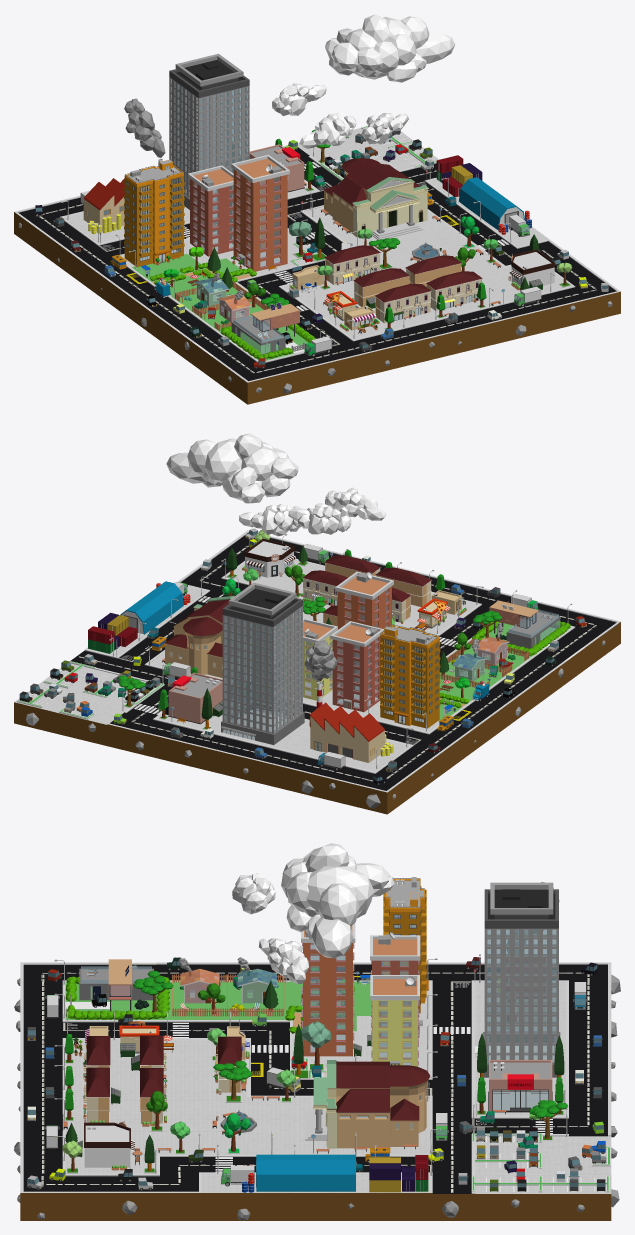
Rendered from low_poly_city.fbx.
3 renders of one model, top to bottom at view 1: azimuth 30°, elevation 25°; view 2: azimuth 150°, elevation 25°; view 3: azimuth 270°, elevation 25°, orthographic. The views are drawn at different scales.
Parts seen in each view (by area): view 1: Icosphere_Colore_0, Ufficio_Colore_0, Struttura_Colore_0, Condominio.001_Colore_0, Floor.001_Colore_0, Condominio.002_Colore_0, Ufficio_Vetro_0, Cube_Colore_0, Storage_Colore_0, Villa_Colore_0, Factory_Colore_0, Plane.089_Marcapiede_0 (+39 smaller); view 2: Icosphere_Colore_0, Ufficio_Colore_0, Floor.001_Colore_0, Ufficio_Vetro_0, Factory_Colore_0, Condominio.002_Colore_0, Plane.069_Colore_0, Cube_Colore_0, SuperMarket_Colore_0, Condominio.001_Colore_0, Villa_Colore_0, Storage_Colore_0 (+36 smaller); view 3: Icosphere_Colore_0, Ufficio_Colore_0, Struttura_Colore_0, Condominio.001_Colore_0, Storage_Colore_0, Plane.069_Colore_0, Ufficio_Vetro_0, Cube_Colore_0, Condominio_Colore_0, Plane.089_Marcapiede_0, Villa_Colore_0, SuperMarket_Colore_0 (+106 smaller).
Boxes of the visible parts, <box> form: Icosphere_Colore_0: <box>272,14,455,148</box>; Ufficio_Colore_0: <box>169,77,249,202</box>; Struttura_Colore_0: <box>332,162,428,237</box>; Condominio.001_Colore_0: <box>233,169,287,271</box>; Floor.001_Colore_0: <box>124,175,184,256</box>; Condominio.002_Colore_0: <box>190,179,233,256</box>; Ufficio_Vetro_0: <box>171,79,247,196</box>; Cube_Colore_0: <box>169,53,249,97</box>; Storage_Colore_0: <box>459,177,524,230</box>; Villa_Colore_0: <box>231,303,299,354</box>; Factory_Colore_0: <box>83,178,148,230</box>; Plane.089_Marcapiede_0: <box>304,206,453,249</box>; Icosphere_Colore_0: <box>166,433,386,536</box>; Ufficio_Colore_0: <box>222,606,302,733</box>; Floor.001_Colore_0: <box>380,637,440,718</box>; Ufficio_Vetro_0: <box>224,608,301,732</box>; Factory_Colore_0: <box>309,702,384,762</box>; Condominio.002_Colore_0: <box>332,636,380,712</box>; Plane.069_Colore_0: <box>14,702,139,753</box>; Cube_Colore_0: <box>222,582,302,626</box>; SuperMarket_Colore_0: <box>168,672,222,724</box>; Condominio.001_Colore_0: <box>337,586,391,683</box>; Villa_Colore_0: <box>489,600,560,648</box>; Storage_Colore_0: <box>120,581,183,634</box>; Icosphere_Colore_0: <box>232,843,394,984</box>; Ufficio_Colore_0: <box>484,928,558,1063</box>; Struttura_Colore_0: <box>313,1060,390,1148</box>; Condominio.001_Colore_0: <box>302,943,354,1056</box>; Storage_Colore_0: <box>256,1154,355,1191</box>; Plane.069_Colore_0: <box>475,1116,611,1220</box>; Ufficio_Vetro_0: <box>487,929,556,1062</box>; Cube_Colore_0: <box>484,882,558,928</box>; Condominio_Colore_0: <box>371,1000,418,1066</box>; Plane.089_Marcapiede_0: <box>284,1097,429,1154</box>; Villa_Colore_0: <box>79,959,153,1011</box>; SuperMarket_Colore_0: <box>488,1060,552,1112</box>.
Bounding box in the file's own units: 122 × 72.94 × 134.
Materials: 9 (6 with a texture image).
